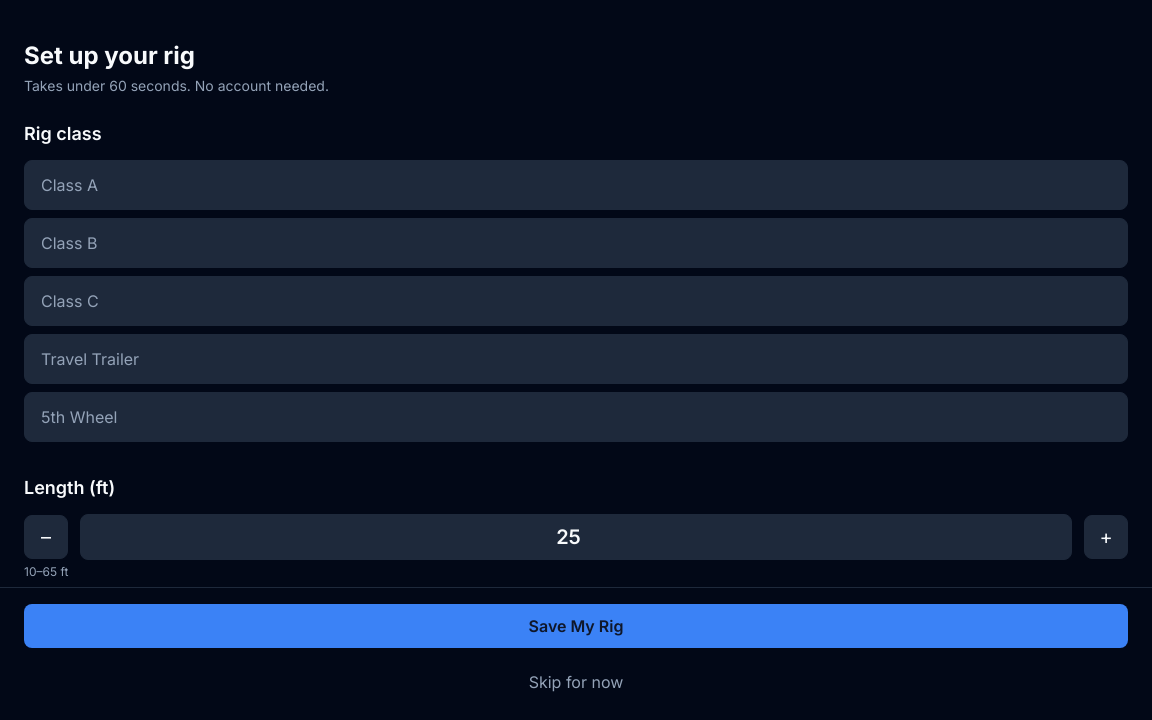
OnboardingScreen › shows validation error when Save is clicked without selecting a rig class
What coordinates should you click on to do the following:
click the button "Save My Rig"
I would click on:
 (576, 626)
Its box is 24,604 -> 1128,648.
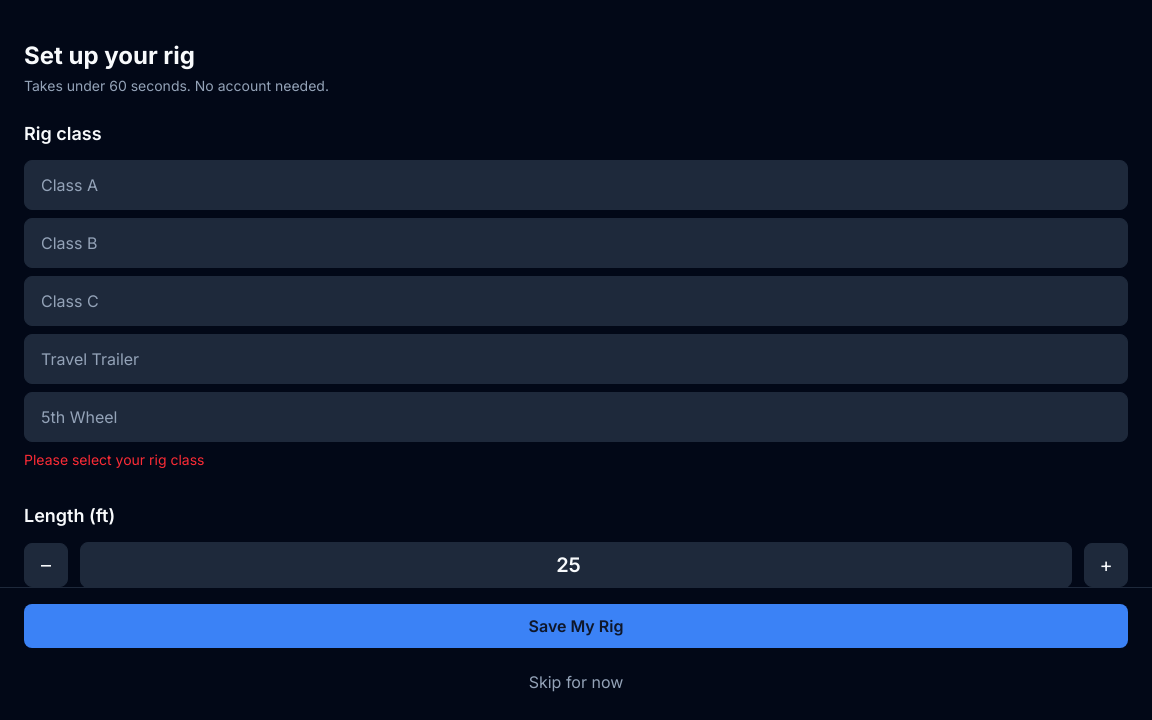
Expected: the message reads "Please select your rig class", 24,451 -> 204,468
